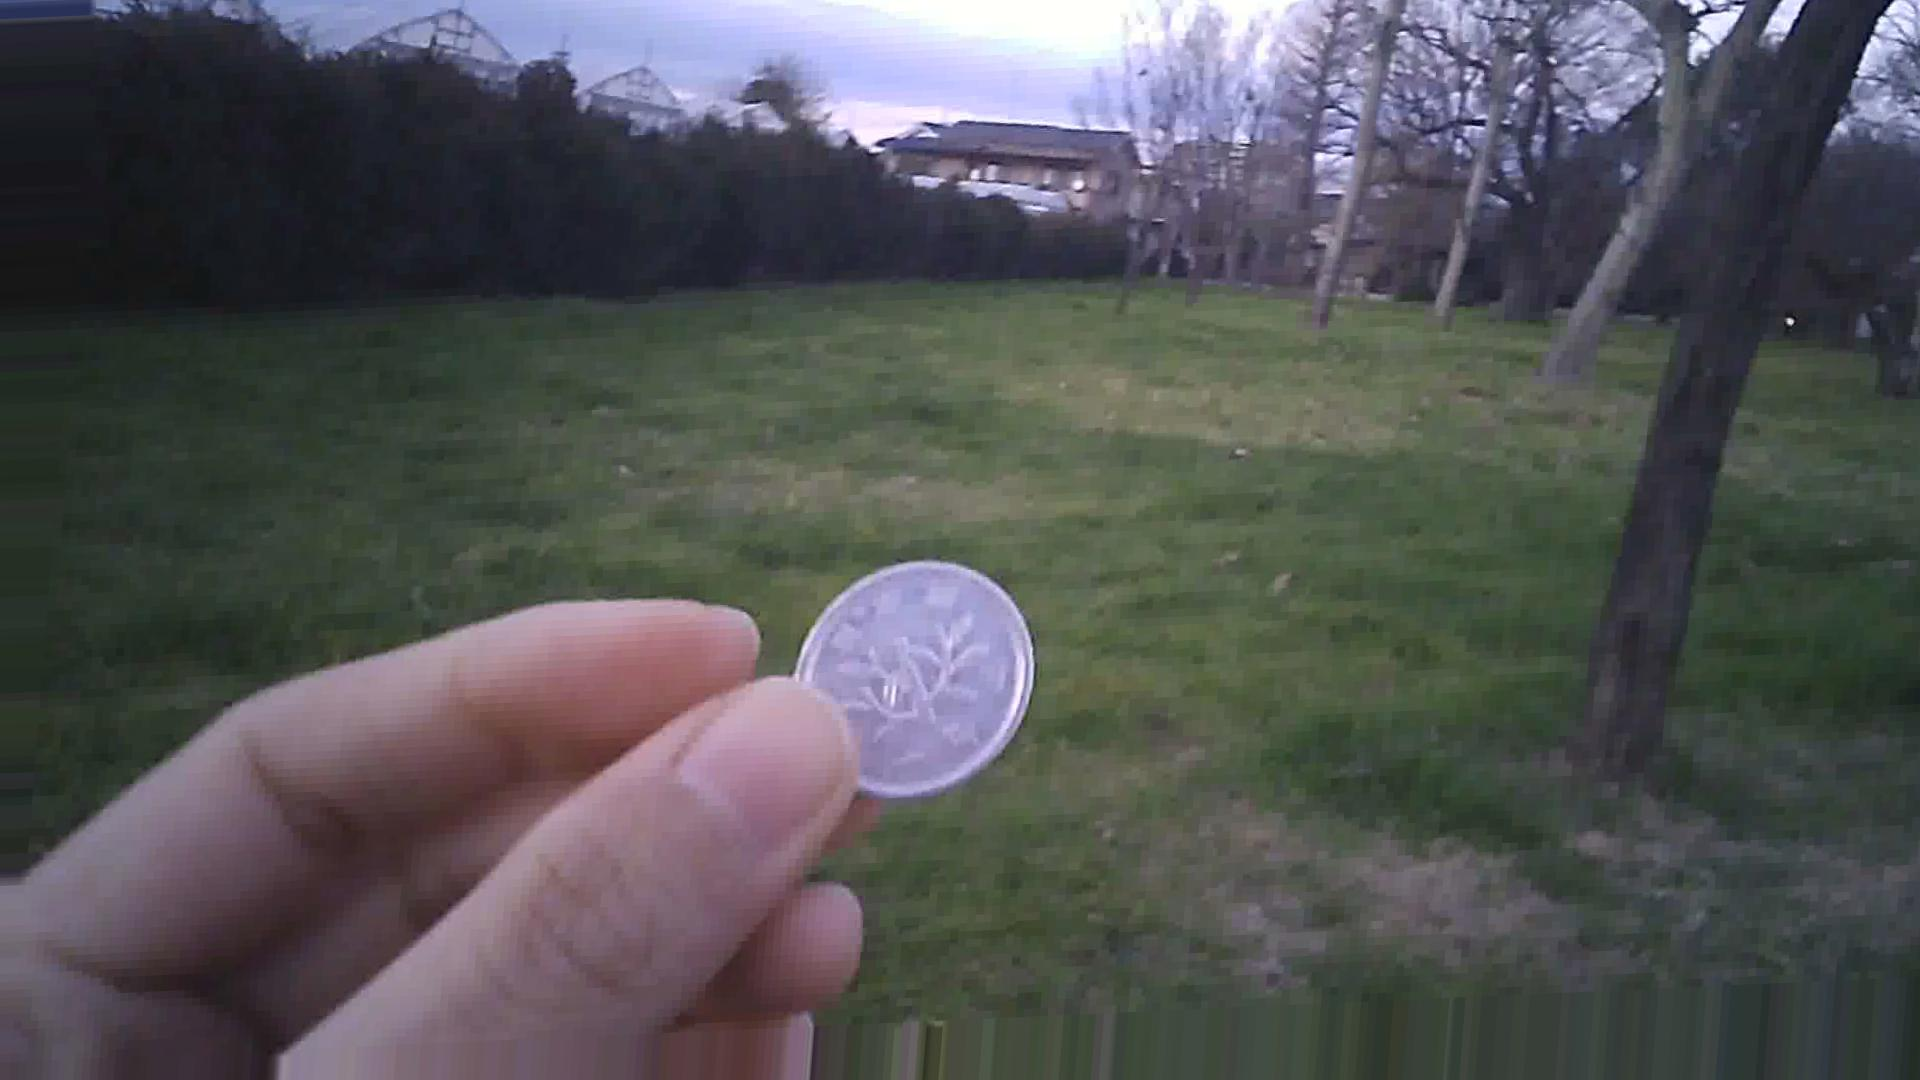1 Yen: (777, 533, 1040, 810)
